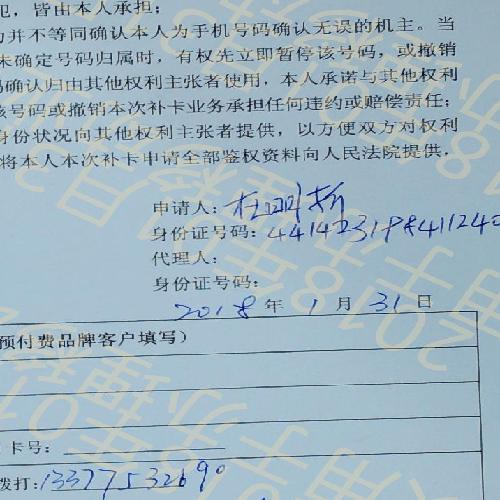sign3: (227, 178, 357, 222)
